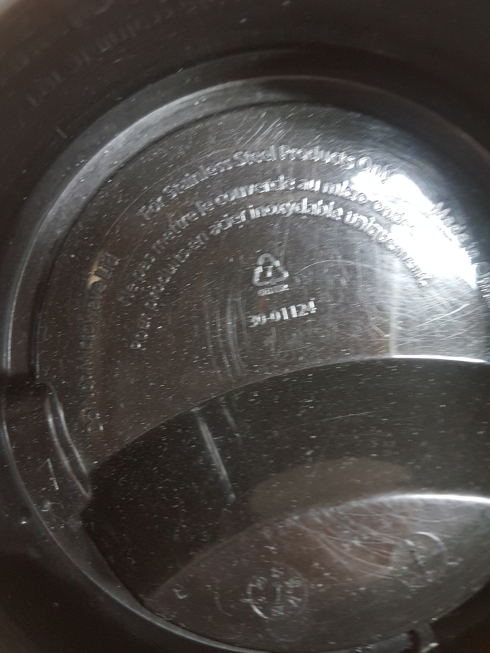recycle: (248, 246, 297, 303)
